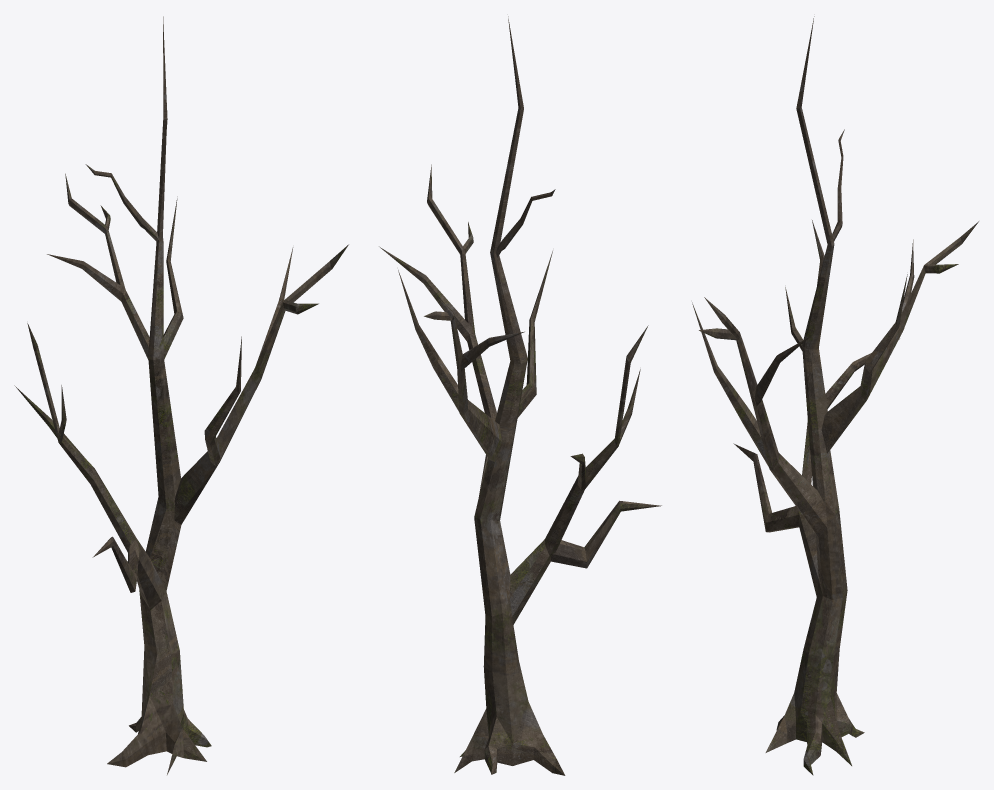
The model's file is tree.obj.
The picture shows the model from 3 angles, left to right: view 1: azimuth 30°, elevation 25°; view 2: azimuth 150°, elevation 25°; view 3: azimuth 270°, elevation 25°; orthographic projection. The views are drawn at different scales.
Parts seen in each view (by area): view 1: tree_Mesh; view 2: tree_Mesh; view 3: tree_Mesh.
Boxes of the visible parts, x1,y1,x2,y2 form: tree_Mesh: [14, 16, 348, 774]; tree_Mesh: [379, 16, 661, 775]; tree_Mesh: [692, 16, 978, 775].
Bounding box in the file's own units: 1.57 × 4.17 × 1.48.
1 material, 1 textured.
